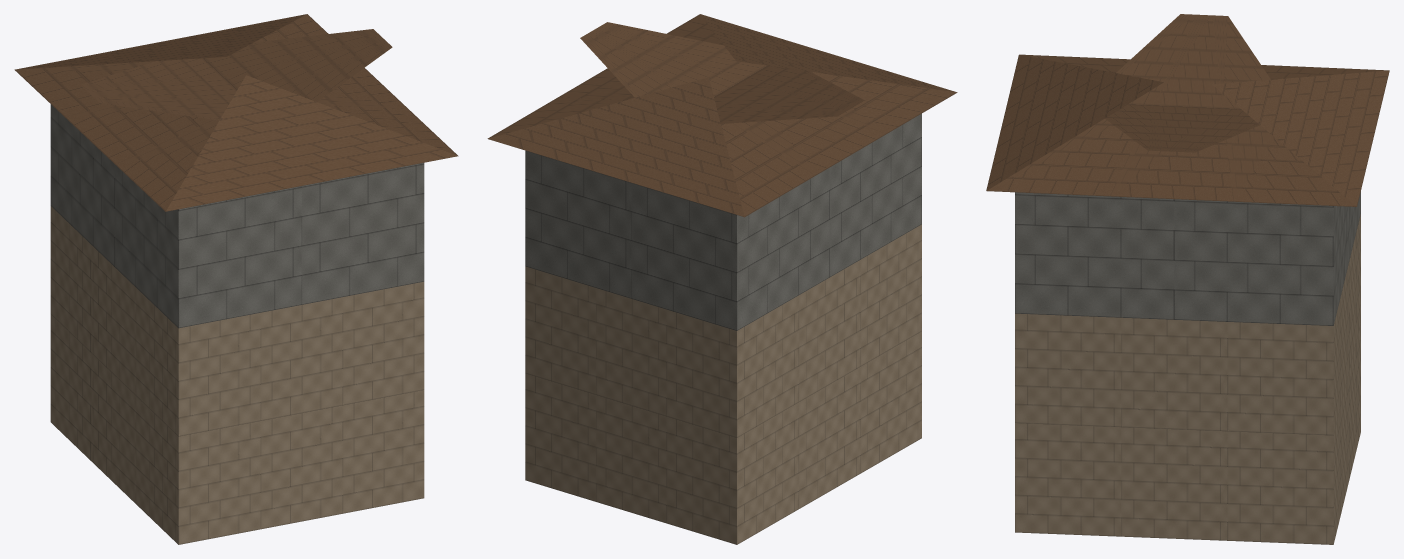
The model's file is bld_c-22_-20_803.gltf.
The picture shows the model from 3 angles, left to right: view 1: azimuth 30°, elevation 25°; view 2: azimuth 150°, elevation 25°; view 3: azimuth 270°, elevation 25°; orthographic projection. The views are drawn at different scales.
Visible parts, largest first — view 1: bld_c-22_-20_803; view 2: bld_c-22_-20_803; view 3: bld_c-22_-20_803.
Part boxes in pixels (<box>): bld_c-22_-20_803: <box>14,14,458,544</box>; bld_c-22_-20_803: <box>487,14,957,544</box>; bld_c-22_-20_803: <box>986,14,1389,544</box>.
Size of the model in its own units: 6.89 by 8.4 by 7.71.
Materials: 3 (3 with a texture image).
